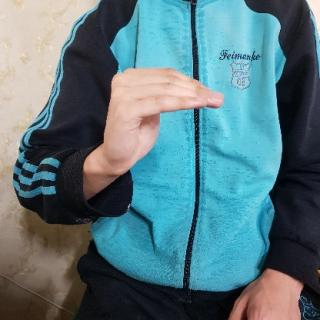HAA: (90, 62, 228, 176)
